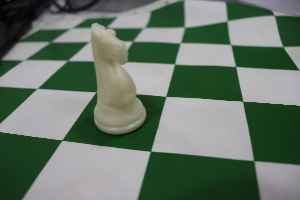white_horse: (76, 11, 154, 144)
